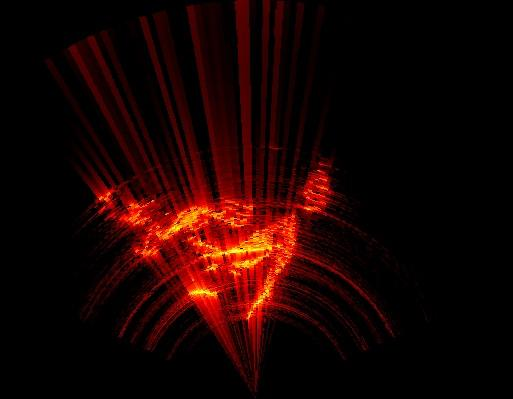shipwreck: (194, 214, 296, 319), (122, 205, 248, 254), (190, 289, 216, 295)
